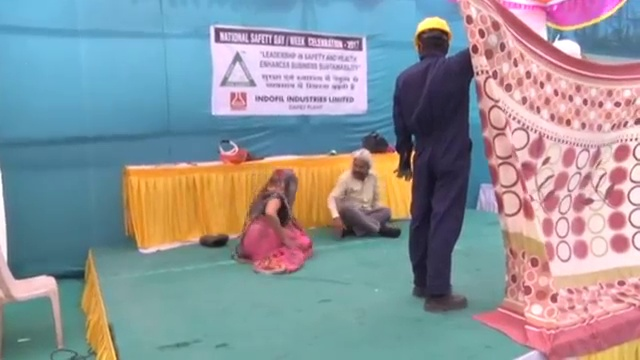helmet: (413, 14, 453, 41)
helmet_off: (349, 145, 376, 178), (265, 167, 297, 191)
helmet_on: (413, 14, 453, 60)
person: (390, 15, 476, 313), (235, 167, 314, 279), (325, 145, 400, 240)
